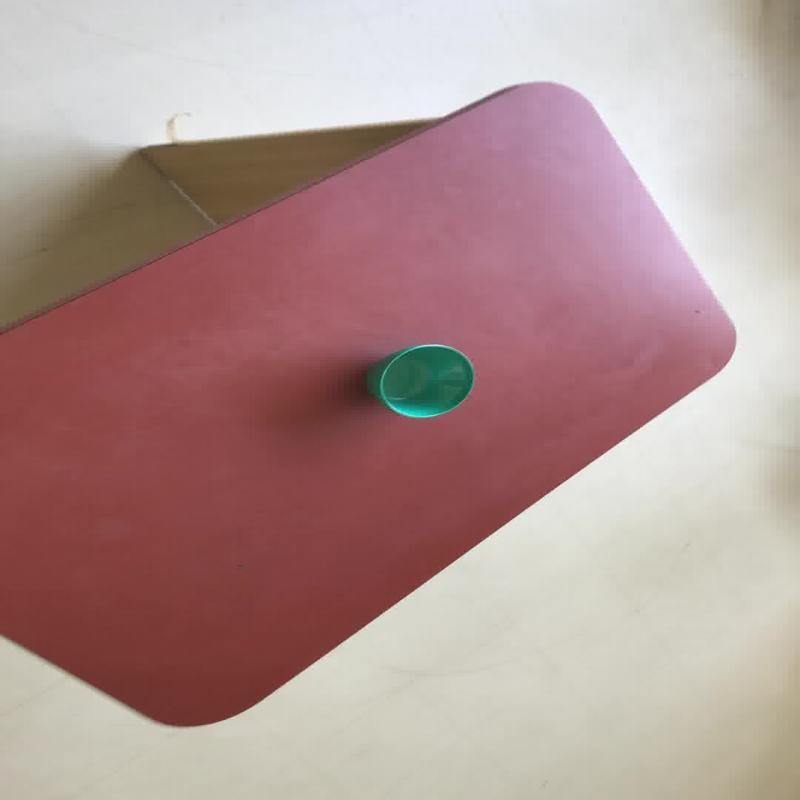bowl: (0, 79, 738, 726), (366, 342, 474, 419)
